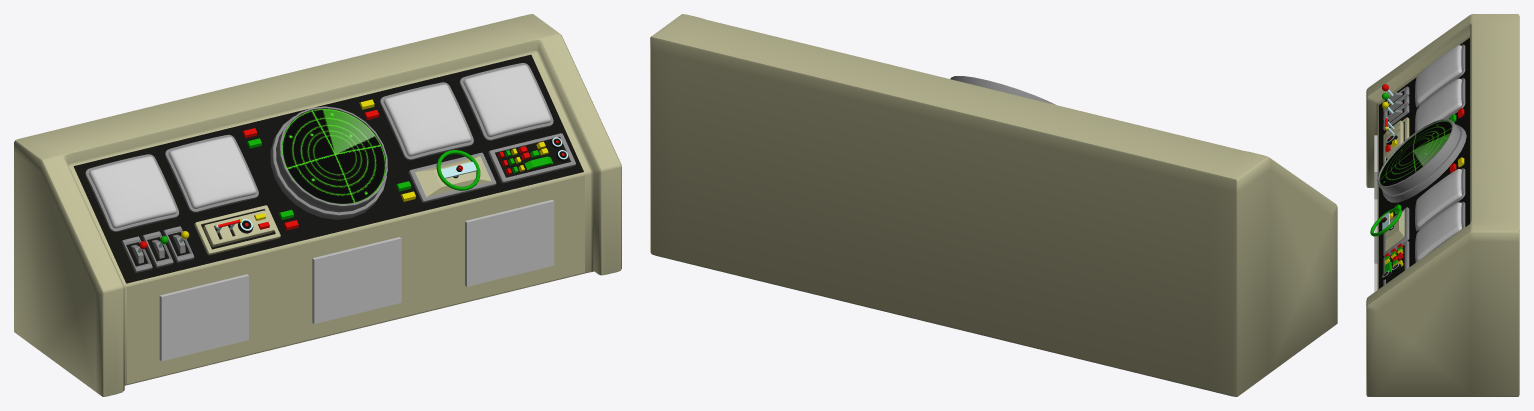
The model's file is Console_C.fbx.
3 views of the same model, side by side, from view 1: azimuth 30°, elevation 25°; view 2: azimuth 150°, elevation 25°; view 3: azimuth 270°, elevation 25° (orthographic). The views are drawn at different scales.
Parts seen in each view (by area): view 1: Box005; view 2: Box005; view 3: Box005.
Boxes of the visible parts, x1=… form: Box005: x1=14, y1=14, x2=621, y2=396; Box005: x1=650, y1=14, x2=1337, y2=396; Box005: x1=1366, y1=14, x2=1519, y2=396.
Size of the model in its own units: 300 by 107 by 89.03.
